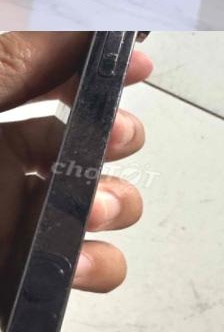scratch: (67, 31, 148, 121), (28, 200, 89, 275)
